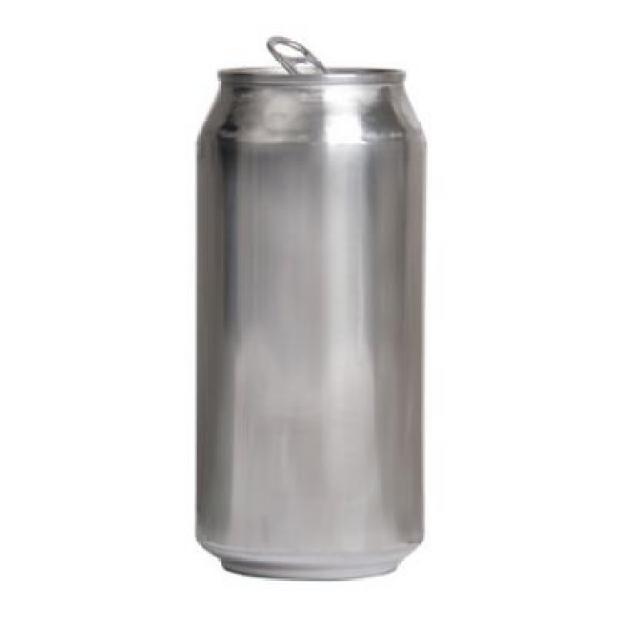can: (187, 24, 444, 602)
